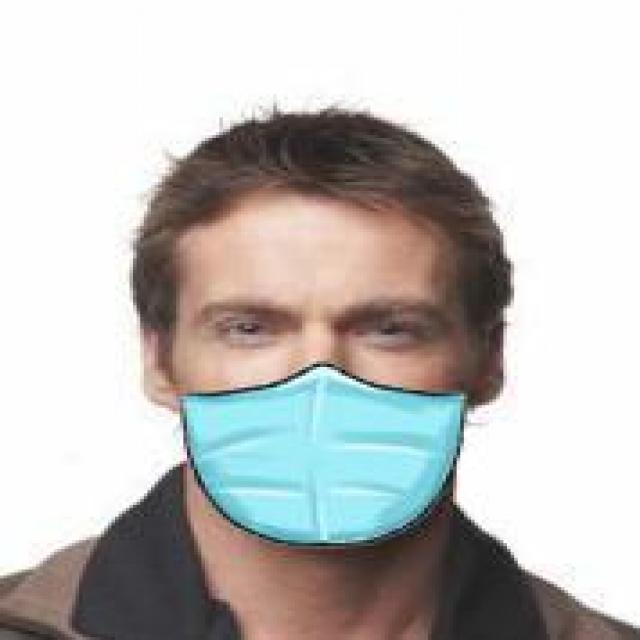mask: (68, 76, 496, 543)
